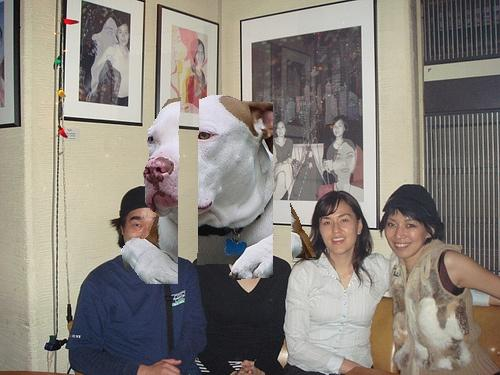tampered: (122, 96, 316, 284)
